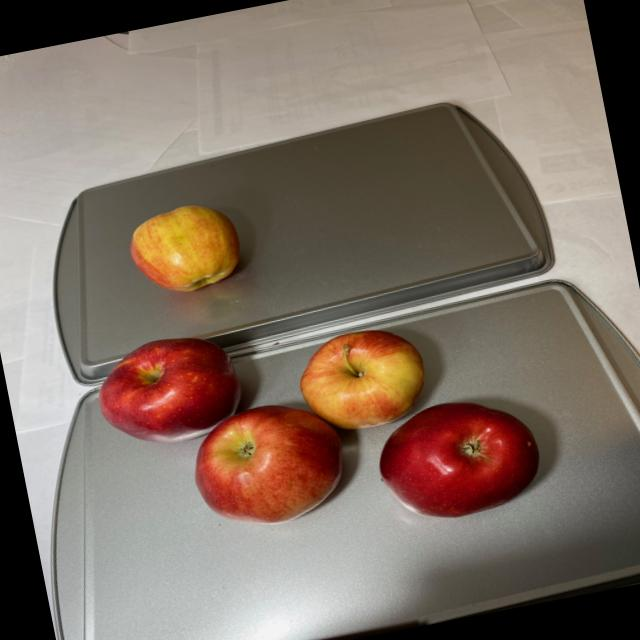apple: (91, 270, 554, 581), (121, 197, 251, 306)
